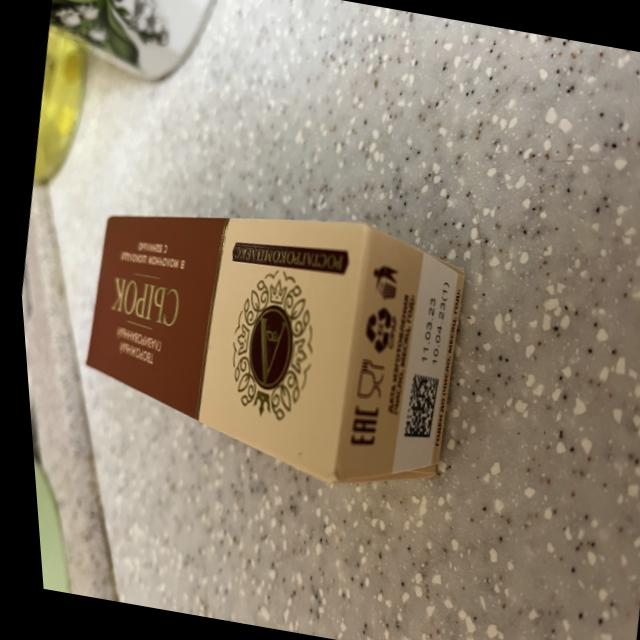datamatrix: (393, 372, 438, 442)
